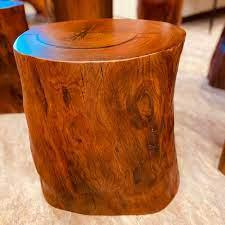chair: (13, 17, 194, 215)
